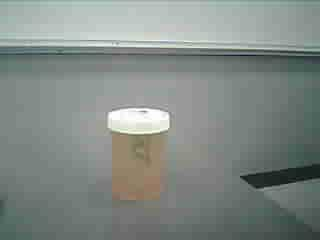Bottle B: (99, 99, 178, 206)
